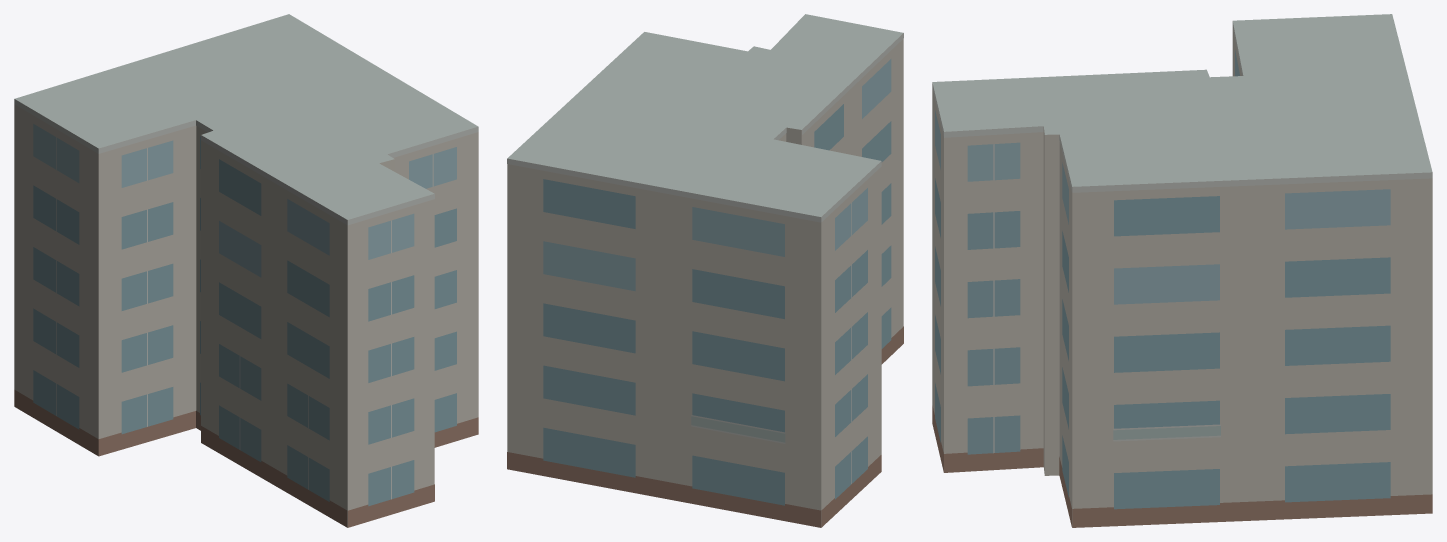
File: survey-upis-32854418.glb
The picture shows the model from 3 angles, left to right: view 1: azimuth 30°, elevation 25°; view 2: azimuth 150°, elevation 25°; view 3: azimuth 270°, elevation 25°; orthographic projection. The views are drawn at different scales.
Parts seen in each view (by area): view 1: survey-upis-32854418.tmp; view 2: survey-upis-32854418.tmp; view 3: survey-upis-32854418.tmp.
Boxes of the visible parts, <box> form: survey-upis-32854418.tmp: <box>14,14,478,527</box>; survey-upis-32854418.tmp: <box>507,14,903,527</box>; survey-upis-32854418.tmp: <box>932,14,1432,527</box>.
Size of the model in its own units: 15.12 by 13.9 by 18.49.
